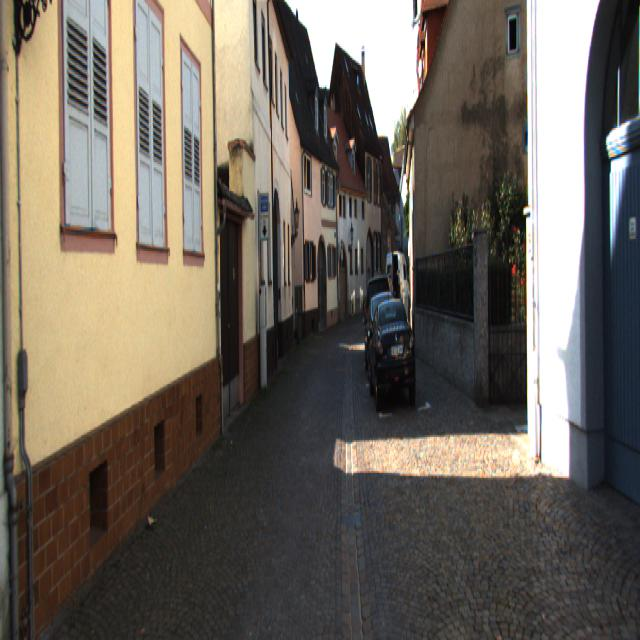Car: (367, 296, 417, 411), (386, 252, 411, 320)
